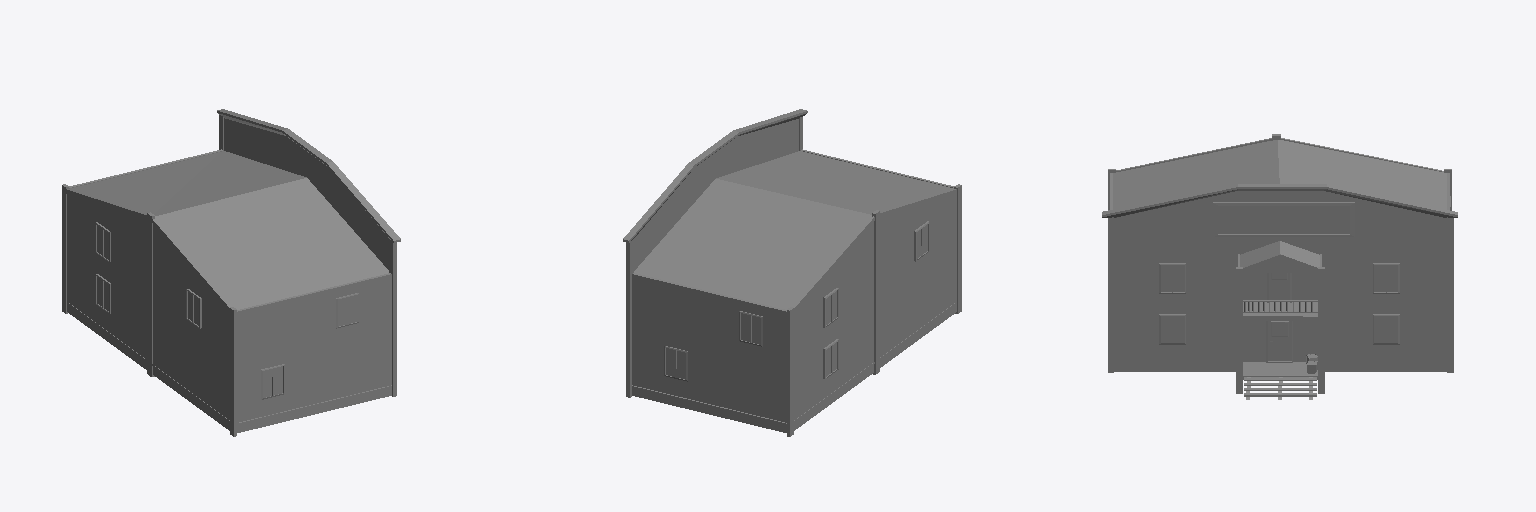
File: hotel.obj
3 views of the same model, side by side, from view 1: azimuth 30°, elevation 25°; view 2: azimuth 150°, elevation 25°; view 3: azimuth 270°, elevation 25° (orthographic).
Parts seen in each view (by area): view 1: Cube; view 2: Cube; view 3: Cube.
Boxes of the visible parts, x1,y1,x2,y2 form: Cube: [62, 109, 400, 436]; Cube: [623, 109, 961, 436]; Cube: [1102, 134, 1457, 399].
Size of the model in its own units: 290 by 245 by 410.